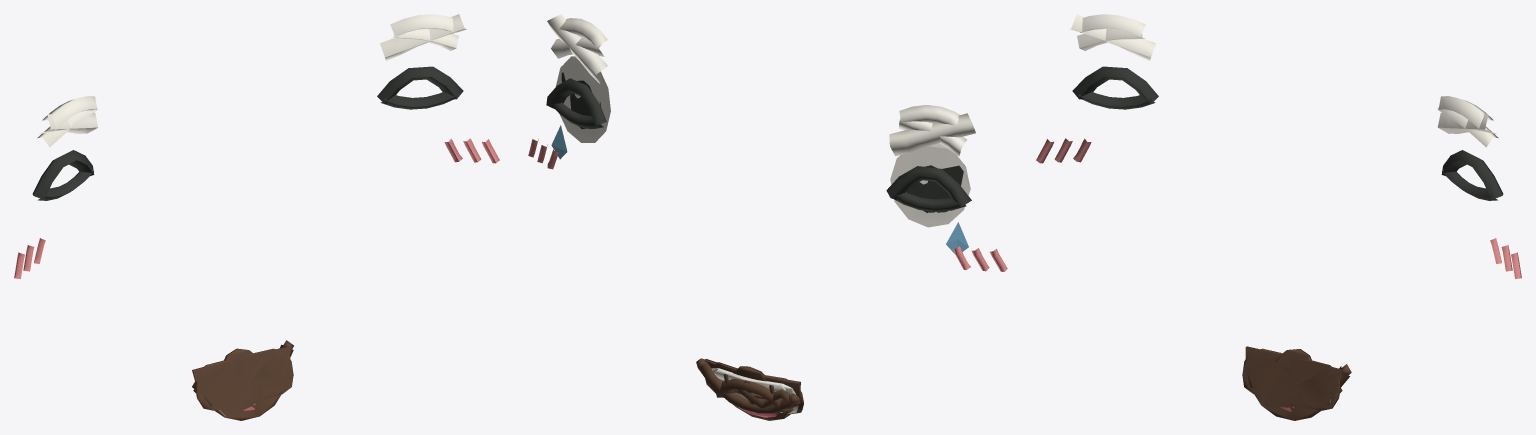
Rendered from npc_face_neuti.glb.
3 renders of one model, left to right at view 1: azimuth 30°, elevation 25°; view 2: azimuth 150°, elevation 25°; view 3: azimuth 330°, elevation 25°, orthographic.
Visible parts, largest first — view 1: mouth_x_laugh, eyes_x_happy, mouth_x_grit, eyes_x_surprised, eyes_x_angry, eyes_x_blink, eyes_x_shy, eyes_x_sad, mouth_x_o; view 2: eyes_x_surprised, eyes_x_angry, eyes_x_happy, eyes_x_sad, eyes_x_blink, mouth_x_grin, mouth_x_laugh, eyes_x_shy, mouth_x_frown, mouth_x_grit, mouth_x_wavy; view 3: mouth_x_laugh, eyes_x_happy, mouth_x_grit, eyes_x_surprised, eyes_x_angry, eyes_x_blink, eyes_x_shy, eyes_x_sad, mouth_x_o.
Part boxes in pixels (x1=…): mouth_x_laugh: x1=192, y1=346, x2=290, y2=420; eyes_x_happy: x1=32, y1=66, x2=463, y2=199; mouth_x_grit: x1=195, y1=348, x2=293, y2=410; eyes_x_surprised: x1=42, y1=14, x2=455, y2=130; eyes_x_angry: x1=39, y1=14, x2=466, y2=133; eyes_x_blink: x1=37, y1=92, x2=456, y2=200; eyes_x_shy: x1=14, y1=138, x2=499, y2=278; eyes_x_sad: x1=37, y1=29, x2=458, y2=147; mouth_x_o: x1=223, y1=348, x2=261, y2=403; eyes_x_surprised: x1=555, y1=18, x2=970, y2=227; eyes_x_angry: x1=547, y1=14, x2=975, y2=198; eyes_x_happy: x1=546, y1=78, x2=971, y2=207; eyes_x_sad: x1=551, y1=38, x2=968, y2=254; eyes_x_blink: x1=551, y1=102, x2=966, y2=211; mouth_x_grin: x1=696, y1=358, x2=800, y2=413; mouth_x_laugh: x1=705, y1=359, x2=800, y2=420; eyes_x_shy: x1=528, y1=126, x2=1007, y2=271; mouth_x_frown: x1=716, y1=378, x2=793, y2=413; mouth_x_grit: x1=711, y1=362, x2=803, y2=413; mouth_x_wavy: x1=705, y1=379, x2=800, y2=408; mouth_x_laugh: x1=1245, y1=346, x2=1342, y2=420; eyes_x_happy: x1=1072, y1=66, x2=1503, y2=199; mouth_x_grit: x1=1242, y1=348, x2=1340, y2=410; eyes_x_surprised: x1=1080, y1=14, x2=1493, y2=130; eyes_x_angry: x1=1069, y1=14, x2=1496, y2=133; eyes_x_blink: x1=1079, y1=91, x2=1498, y2=200; eyes_x_shy: x1=1036, y1=138, x2=1521, y2=278; eyes_x_sad: x1=1077, y1=29, x2=1498, y2=147; mouth_x_o: x1=1275, y1=349, x2=1311, y2=406.
Size of the model in its own units: 0.4969 by 0.3538 by 0.0476.
